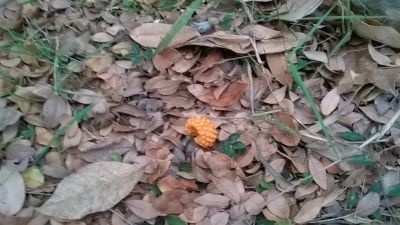eggs: (185, 116, 217, 149)
